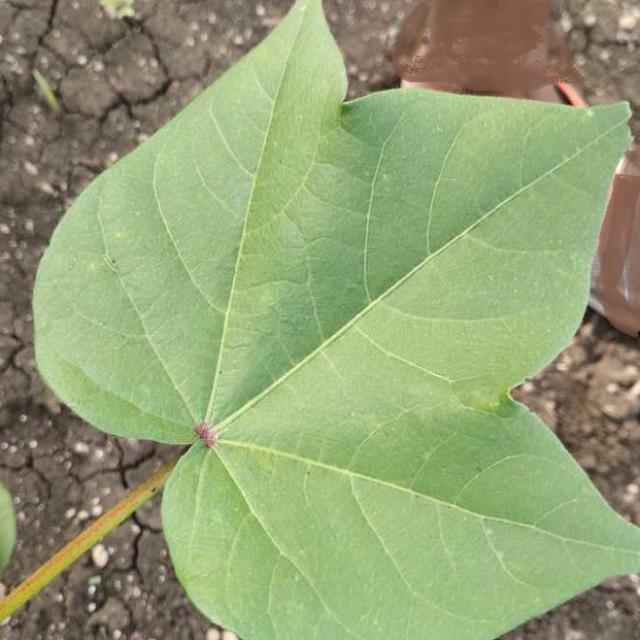Healthy Leaf: (191, 183, 470, 458)
